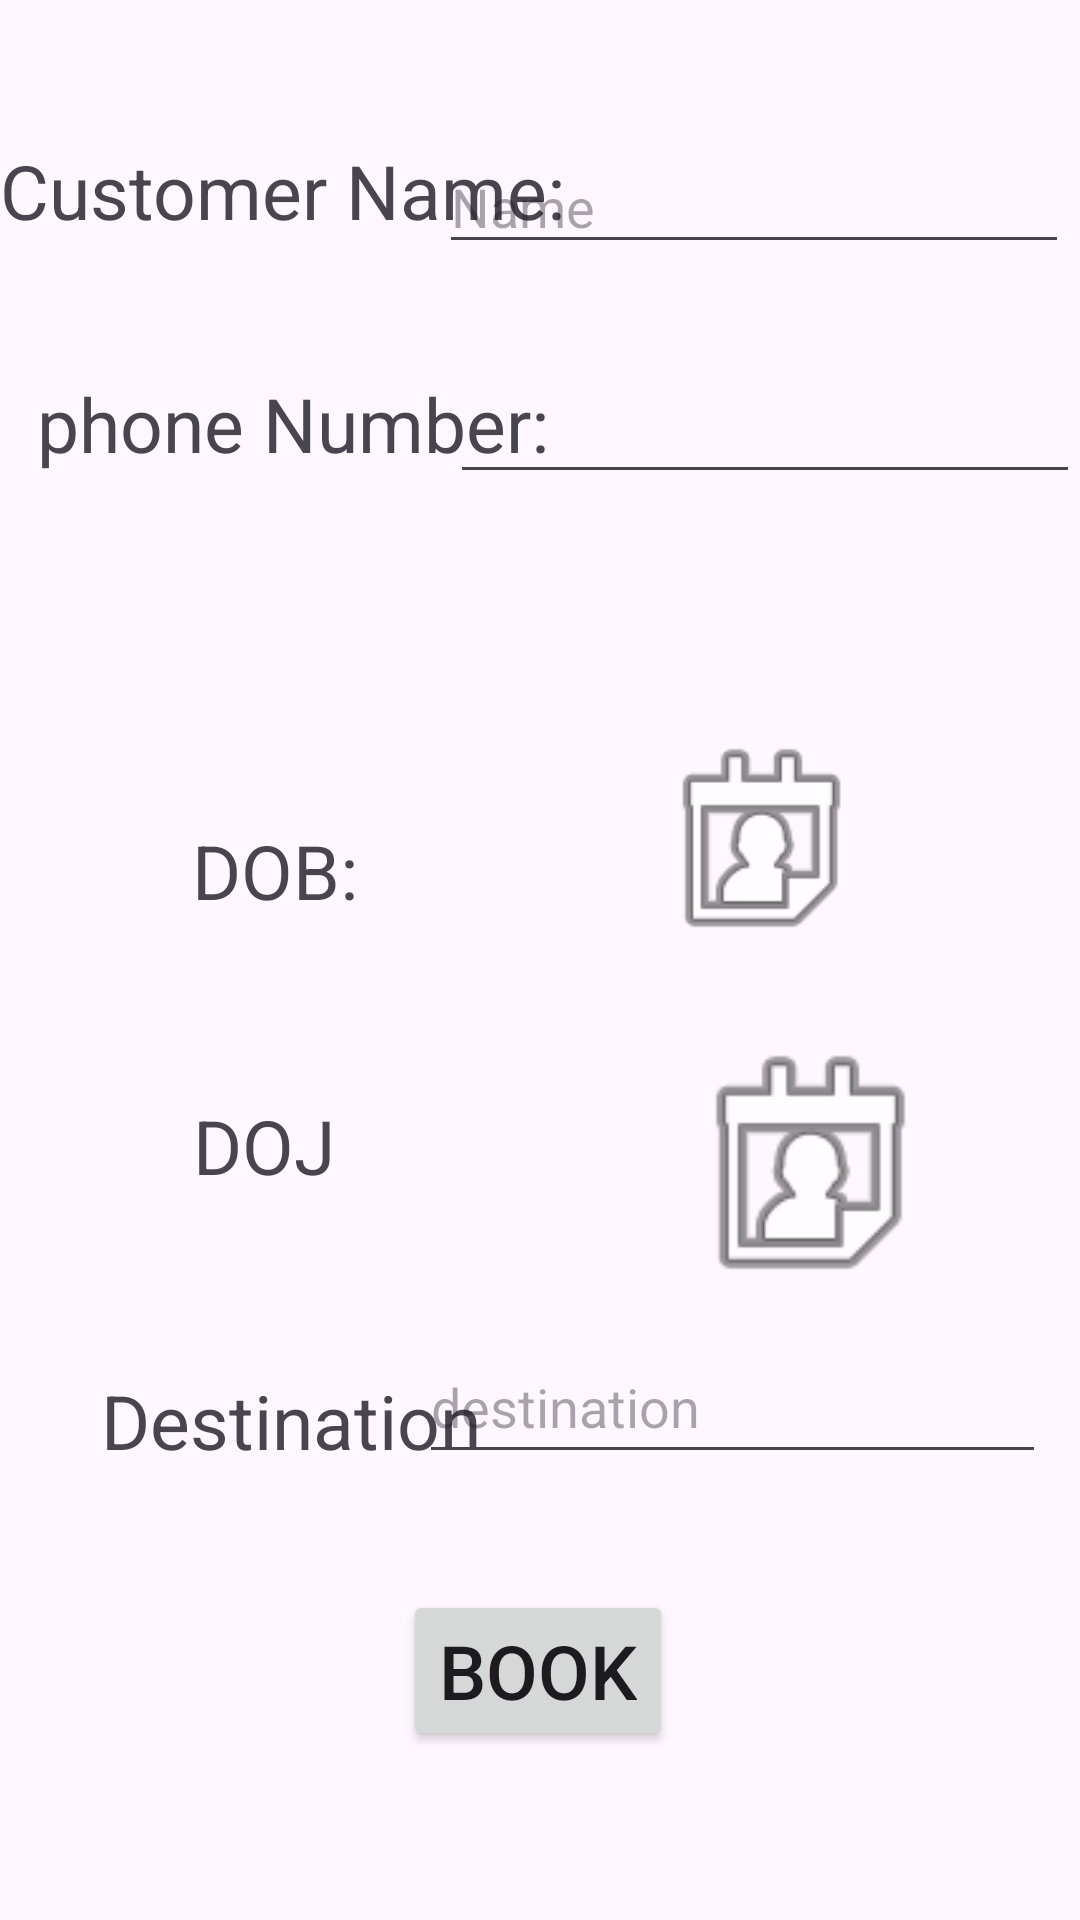

Icons on this 1080w x 1920h Android screen, each with the point to tap as [x,y]:
calendar: [761,838], [810,1162]
